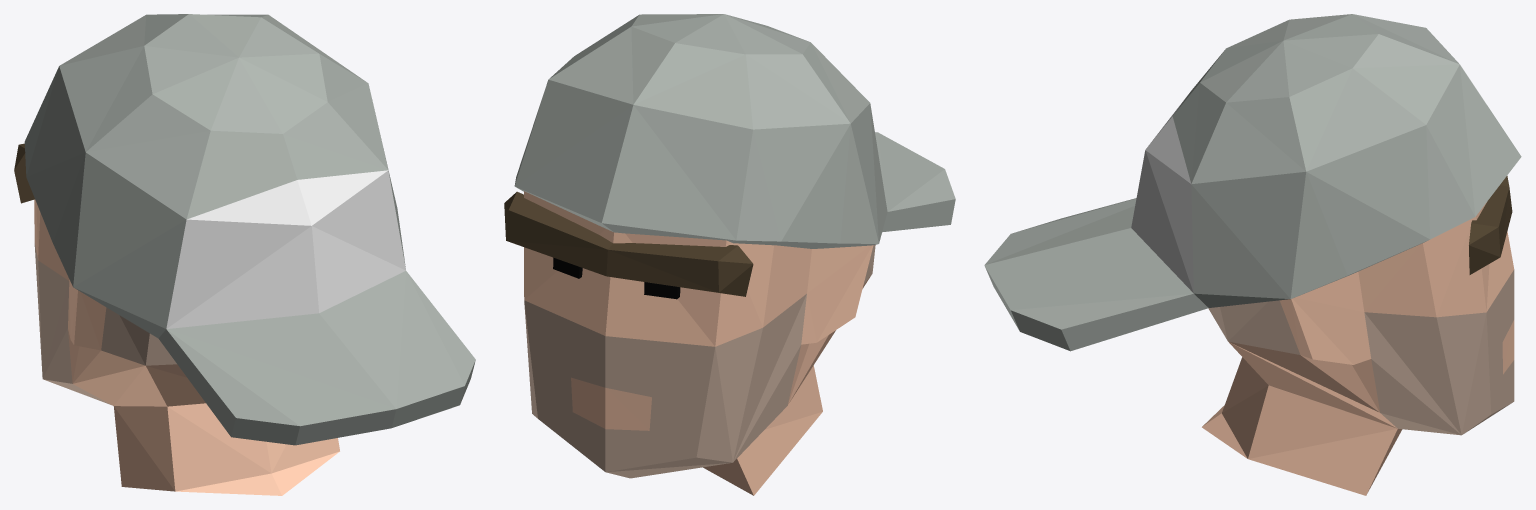
Rendered from ShopKeeper_01_Head_0_01_A.obj.
3 views of the same model, side by side, from view 1: azimuth 30°, elevation 25°; view 2: azimuth 150°, elevation 25°; view 3: azimuth 270°, elevation 25° (orthographic). The views are drawn at different scales.
Visible parts, largest first — view 1: ShopKeeper_01_Head_0_01_A; view 2: ShopKeeper_01_Head_0_01_A; view 3: ShopKeeper_01_Head_0_01_A.
Boxes of the visible parts, bbox=[...] form: ShopKeeper_01_Head_0_01_A: bbox=[14, 14, 475, 495]; ShopKeeper_01_Head_0_01_A: bbox=[504, 14, 955, 495]; ShopKeeper_01_Head_0_01_A: bbox=[984, 14, 1521, 495].
Size of the model in its own units: 0.2734 by 0.3625 by 0.4127.
1 material, 1 textured.
